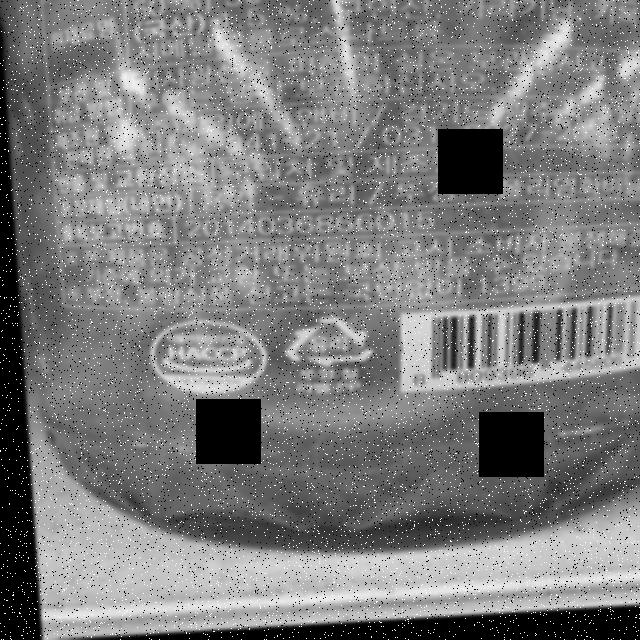Glass: (274, 317, 371, 374)
